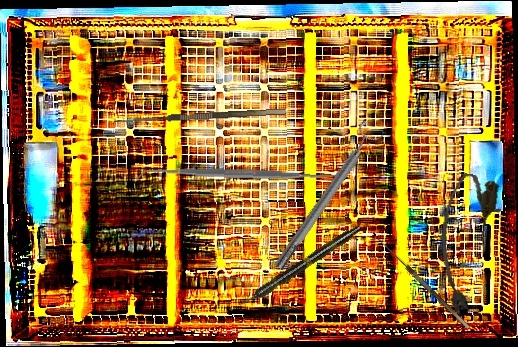Cannula: (427, 170, 501, 318)
Fixation Ring: (265, 119, 387, 275)
Handpiece: (236, 222, 364, 311)
Hook Surgical: (372, 236, 471, 335), (112, 108, 287, 133)
Spatula Surgical: (135, 159, 342, 189)
